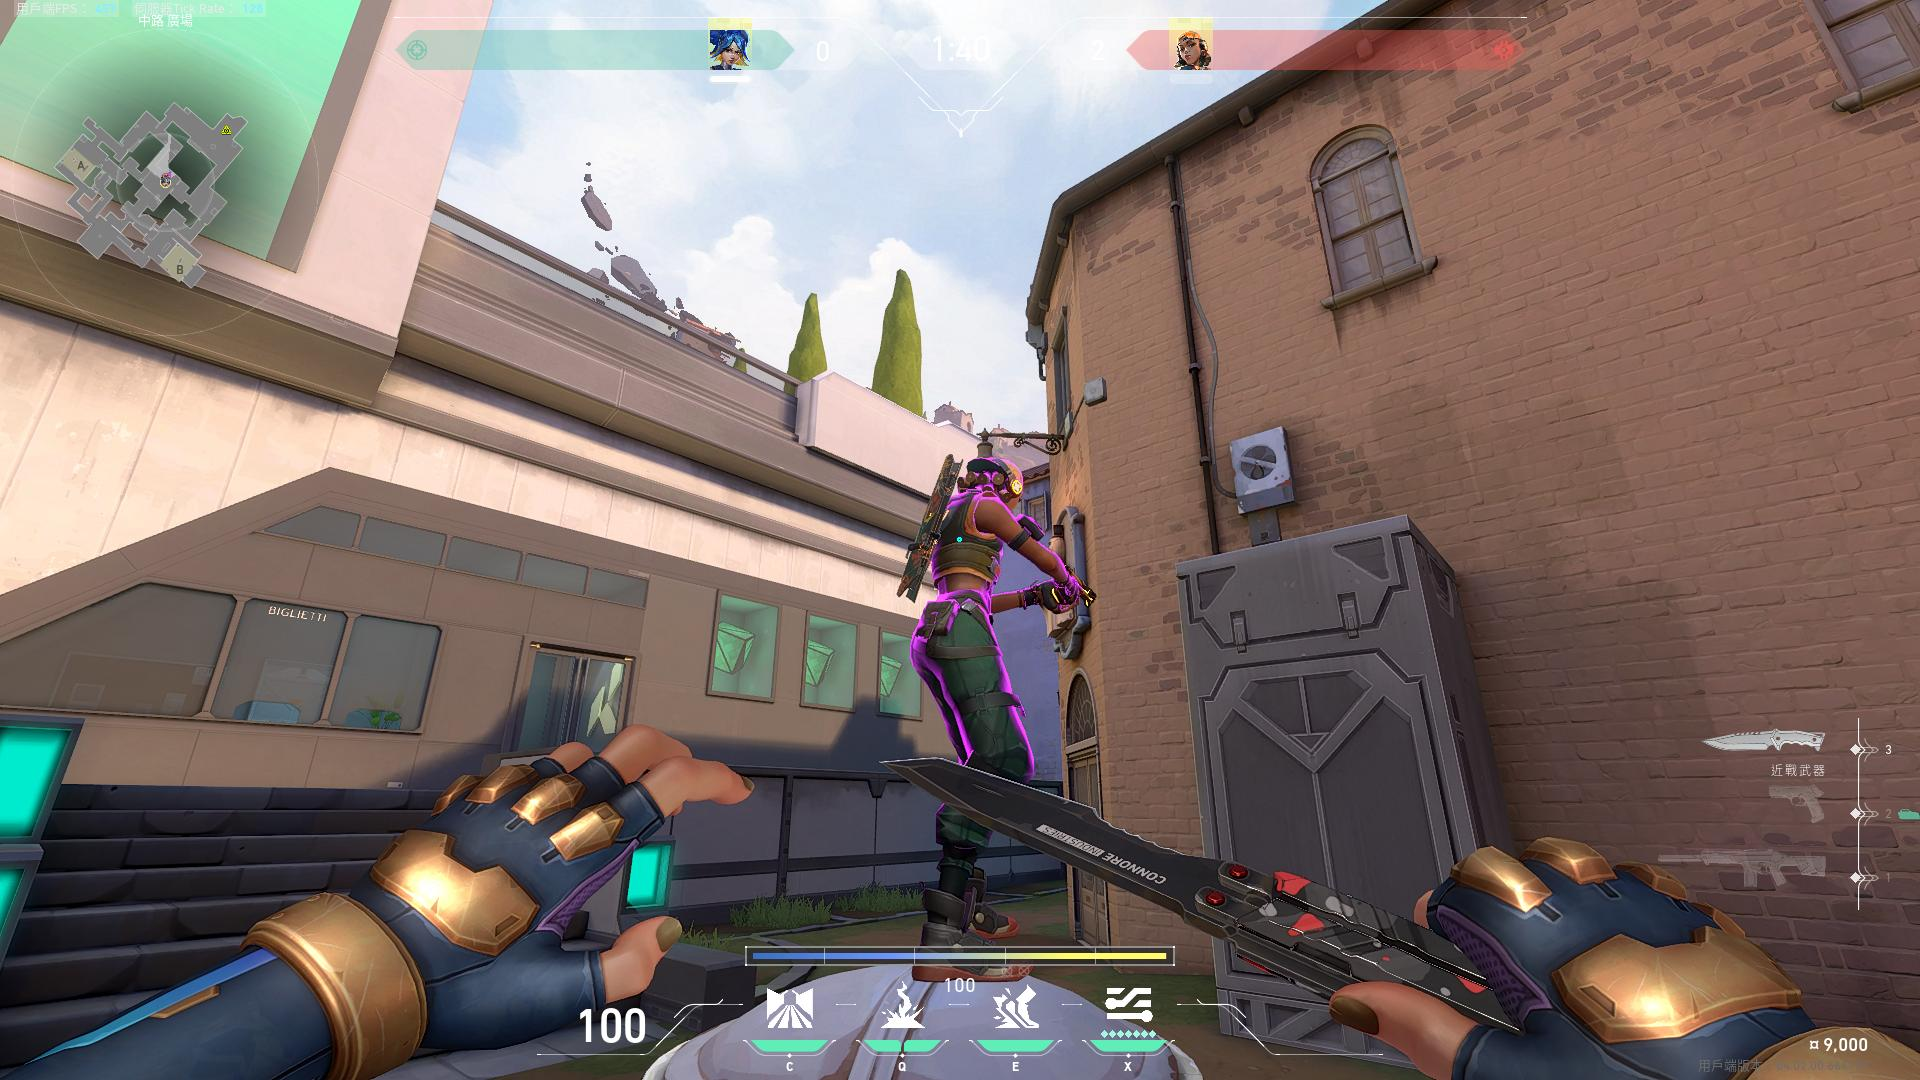enemyBody: (936, 514, 1002, 605)
enemyHead: (961, 452, 1021, 501)
